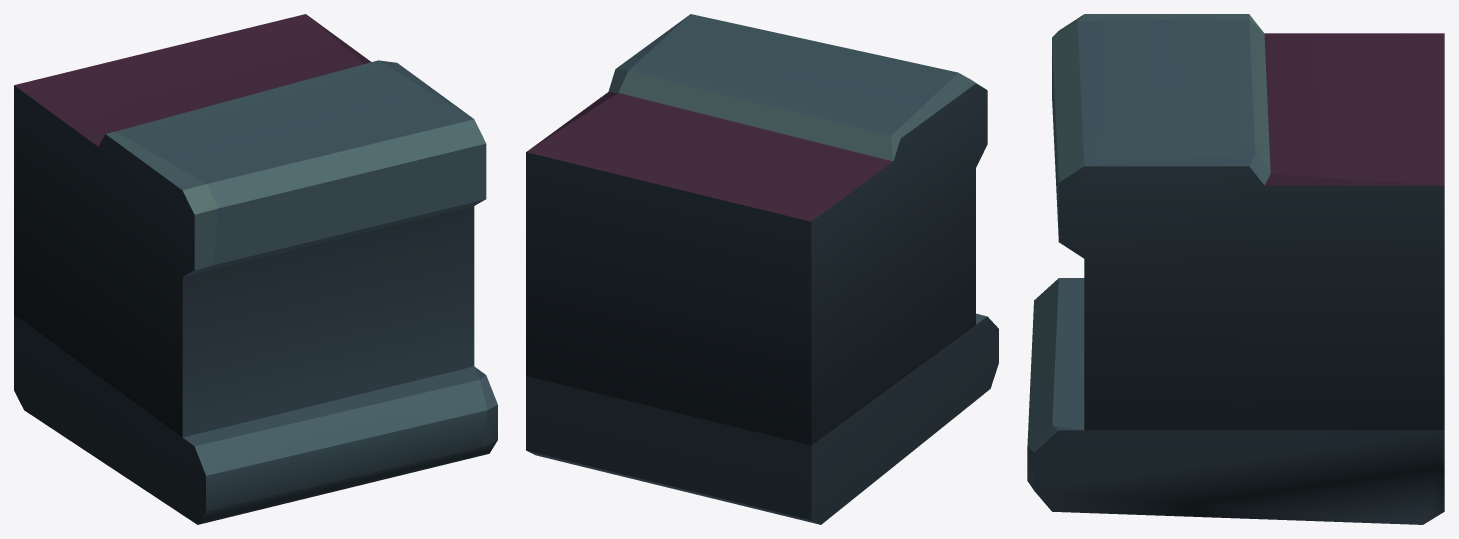
The model's file is wall_small_2.fbx.
The picture shows the model from 3 angles, left to right: view 1: azimuth 30°, elevation 25°; view 2: azimuth 150°, elevation 25°; view 3: azimuth 270°, elevation 25°; orthographic projection. The views are drawn at different scales.
Visible parts, largest first — view 1: wall_small_2; view 2: wall_small_2; view 3: wall_small_2.
Boxes of the visible parts, x1=… form: wall_small_2: x1=14, y1=14, x2=497, y2=524; wall_small_2: x1=526, y1=14, x2=998, y2=524; wall_small_2: x1=1027, y1=14, x2=1444, y2=524.
Bounding box in the file's own units: 100 × 111 × 116.
